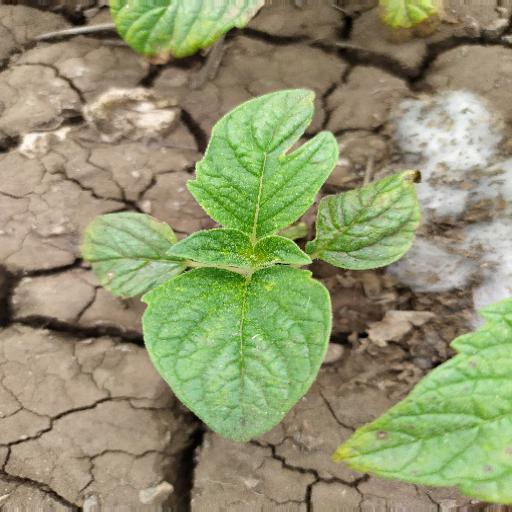crop: (75, 111, 434, 444)
